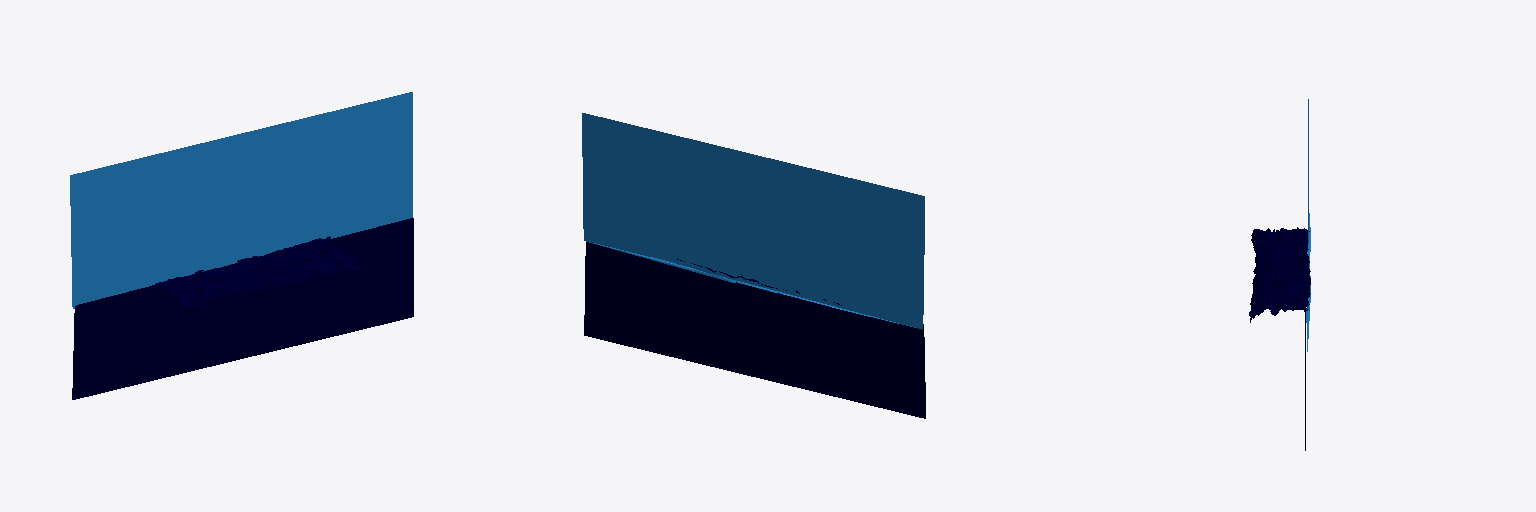
The model's file is backgroud_water_sky.obj.
The picture shows the model from 3 angles: view 1: azimuth 30°, elevation 25°; view 2: azimuth 150°, elevation 25°; view 3: azimuth 270°, elevation 25°; orthographic projection.
Parts seen in each view (by area): view 1: Sky_Plane.002, Under_Water_Plane.003, Water_Surface_Plane.001; view 2: Sky_Plane.002, Under_Water_Plane.003; view 3: Water_Surface_Plane.001.
Boxes of the visible parts, x1=… form: Sky_Plane.002: x1=70, y1=92, x2=412, y2=308; Under_Water_Plane.003: x1=72, y1=218, x2=413, y2=399; Water_Surface_Plane.001: x1=152, y1=236, x2=361, y2=311; Sky_Plane.002: x1=582, y1=113, x2=924, y2=329; Under_Water_Plane.003: x1=584, y1=242, x2=925, y2=418; Water_Surface_Plane.001: x1=1249, y1=227, x2=1310, y2=322.
Size of the model in its own units: 86.1 by 53.68 by 13.61.